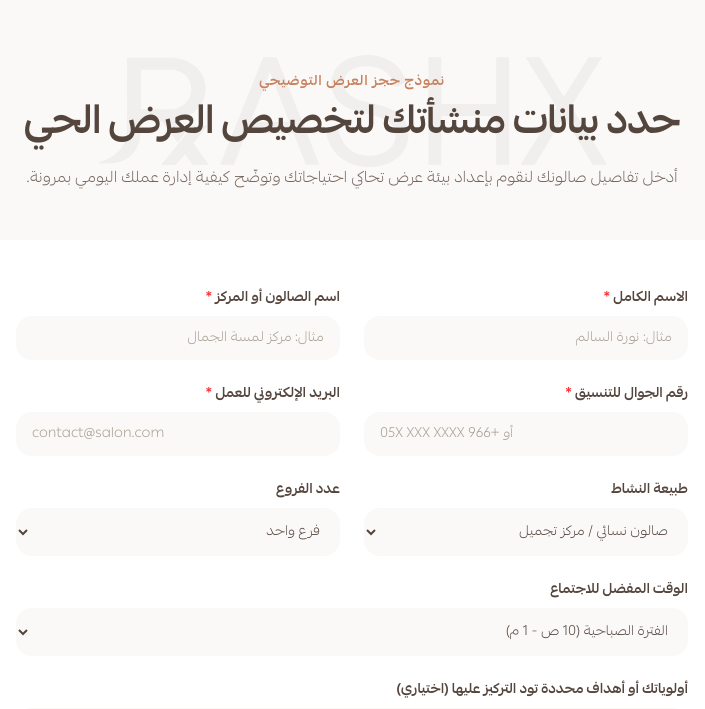
RASHX Commercial Suite (/demo & /get-started) › Demo Components (/demo) › handles unsupported submission without fake success, showing verified contact
The image size is (705, 709).
Type "سارة العتيبي" into the field labelled "الاسم الكامل *".
click(526, 338); type("سارة العتيبي")  # box left=364, top=316, right=688, bottom=360
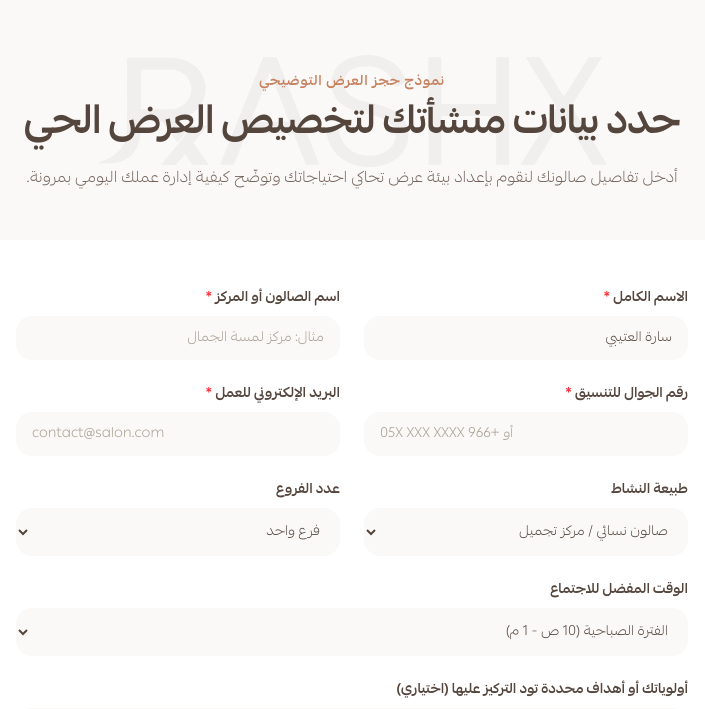
Type "صالون لمسة الأناقة" into the field labelled "اسم الصالون أو المركز *".
click(178, 338); type("صالون لمسة الأناقة")  # box left=16, top=316, right=340, bottom=360
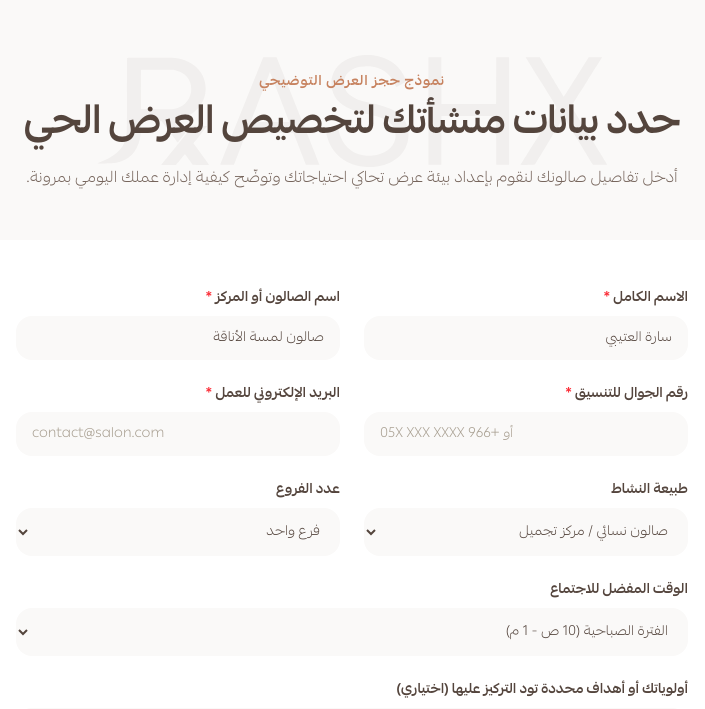
Type "0548082945" into the field labelled "رقم الجوال للتنسيق *".
click(526, 434); type("0548082945")  # box left=364, top=412, right=688, bottom=456
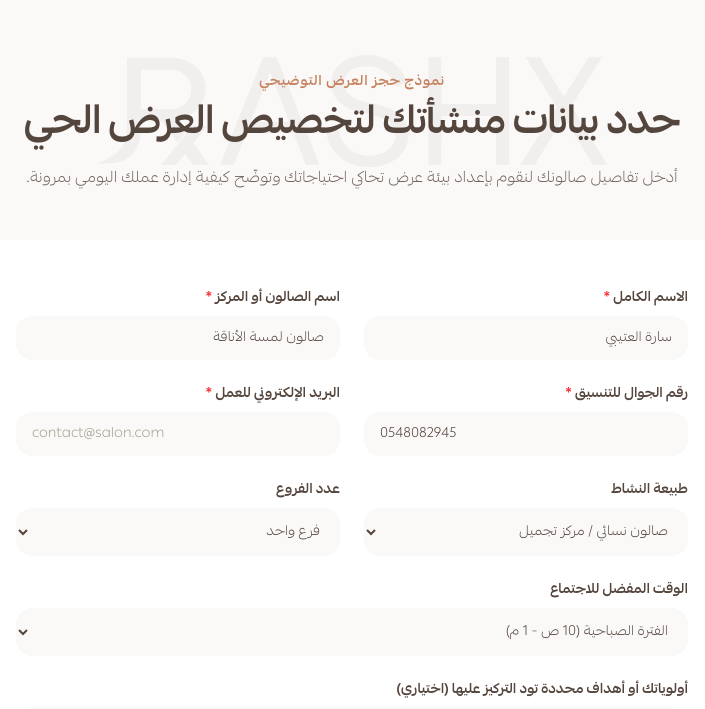
Type "sara@salon.com" into the field labelled "البريد الإلكتروني للعمل *".
click(178, 434); type("sara@salon.com")  # box left=16, top=412, right=340, bottom=456
(page scrolled)
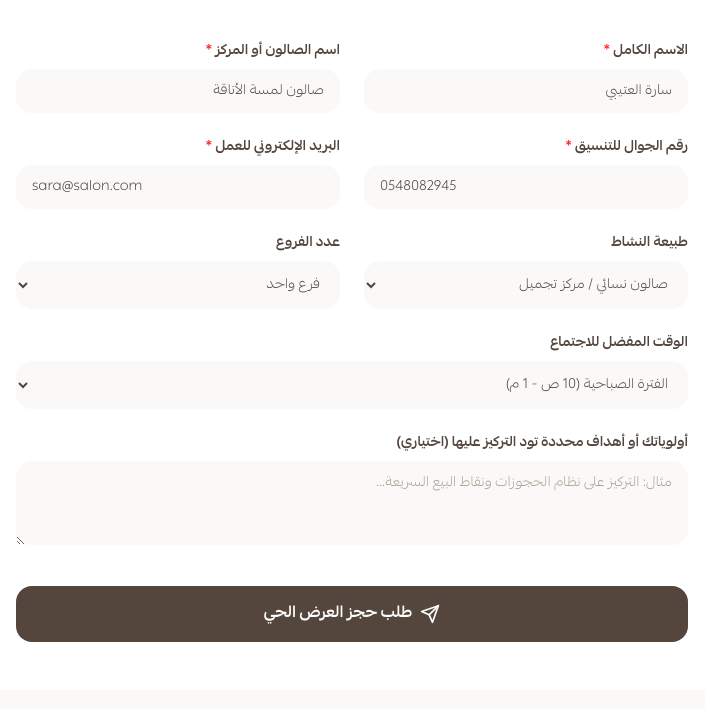
Click the button "طلب حجز العرض الحي".
click(352, 614)  # box left=16, top=586, right=688, bottom=642
(page scrolled)
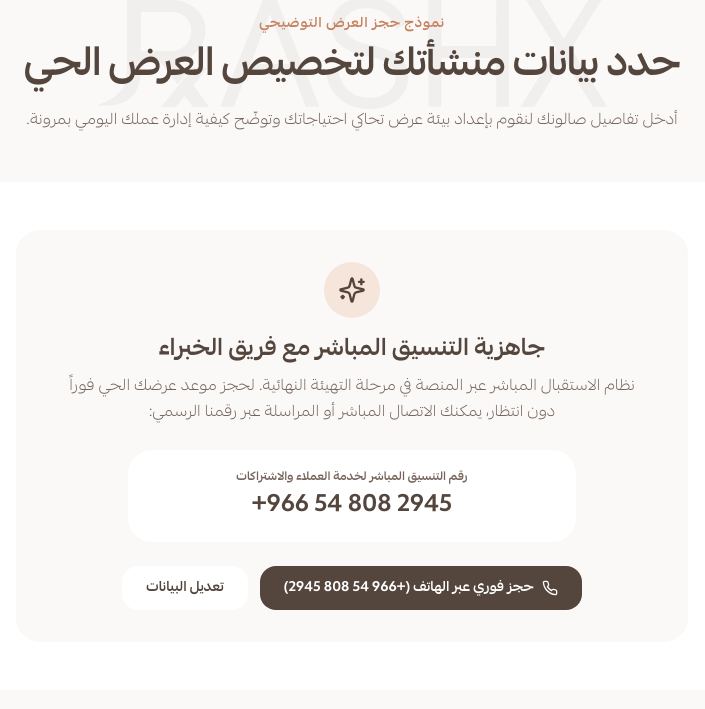
Expected: the element named "Direct Demo Scheduling" is shown, left=16, top=230, right=688, bottom=642
Expected: the link "+966 54 808 2945" is shown, left=252, top=490, right=452, bottom=522
